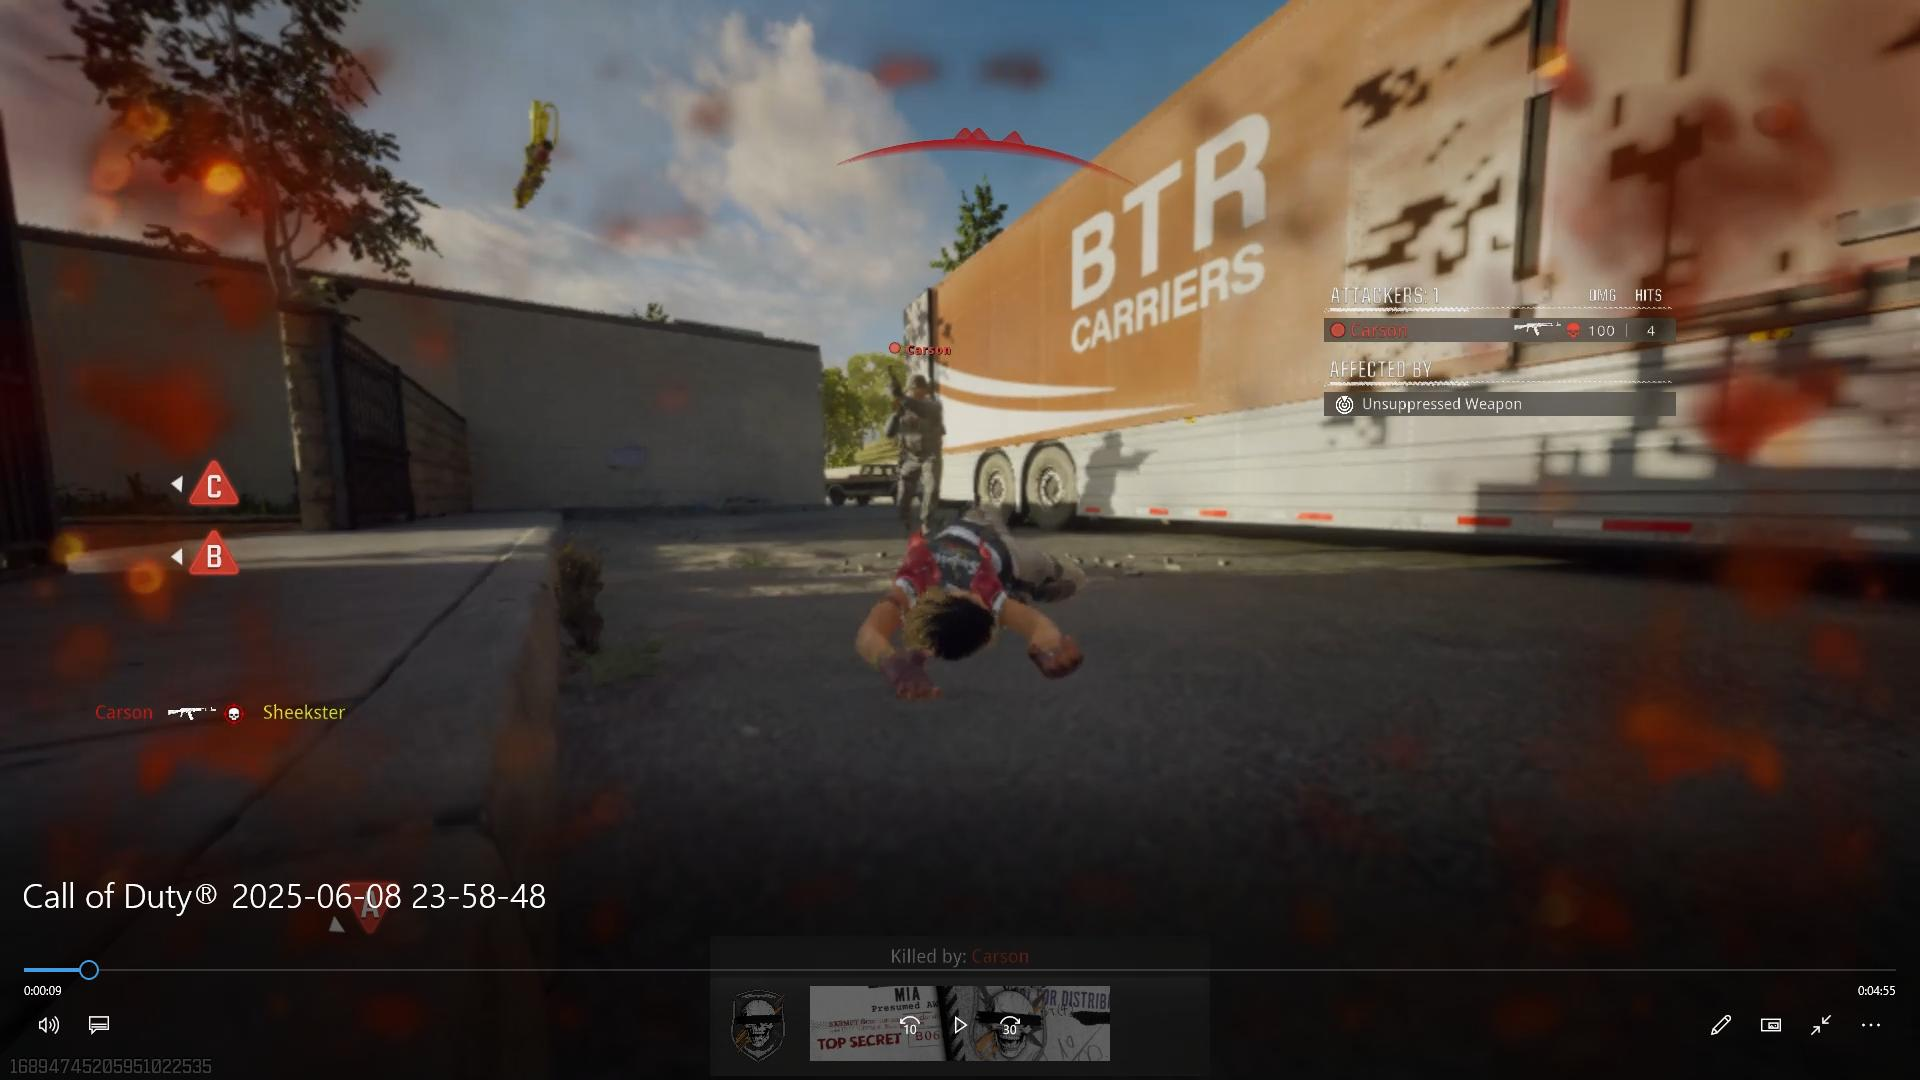Enemy: (878, 364, 945, 525)
